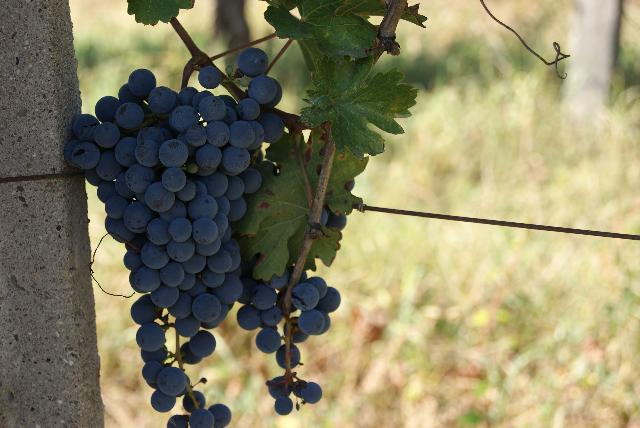grapes: (64, 49, 285, 428), (231, 255, 341, 415)
